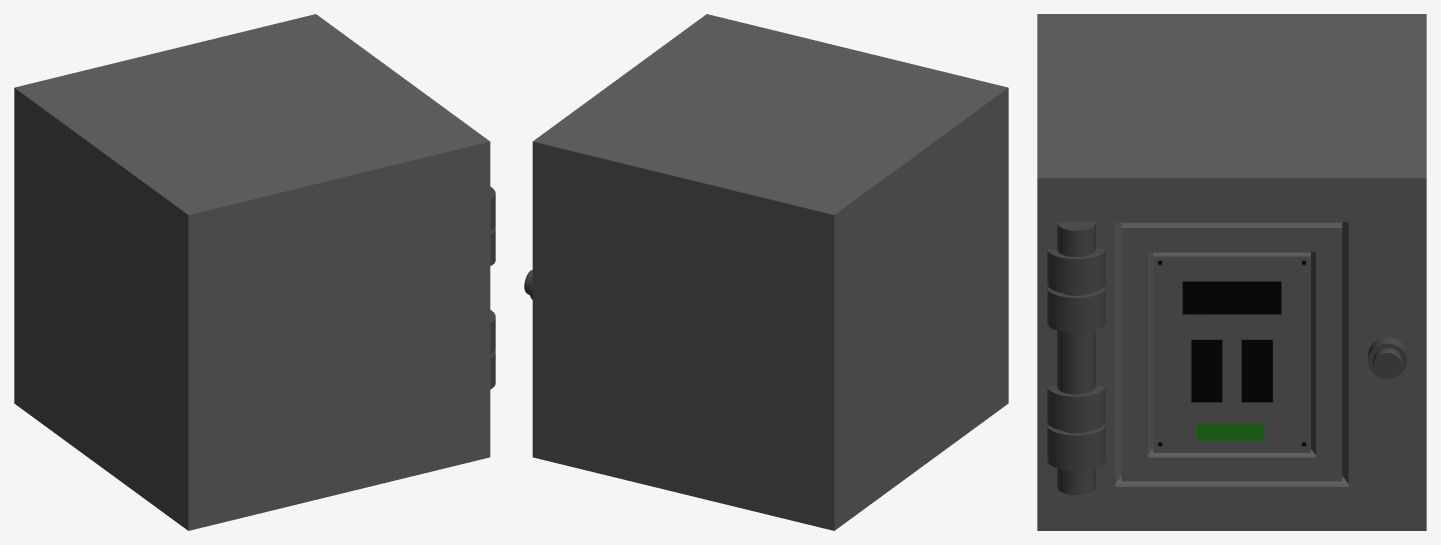
Rendered from Safe.glb.
3 renders of one model, left to right at view 1: azimuth 30°, elevation 25°; view 2: azimuth 150°, elevation 25°; view 3: azimuth 270°, elevation 25°, orthographic. The views are drawn at different scales.
Visible parts, largest first — view 1: Cube; view 2: Cube; view 3: Cube, Cylinder.002, Cylinder.005, Cylinder.003, Cylinder.004, Cylinder.006, Cylinder.001, Cylinder.
Part boxes in pixels (bbox=[...]): Cube: bbox=[14, 14, 490, 530]; Cube: bbox=[532, 14, 1008, 530]; Cube: bbox=[1037, 14, 1426, 530]; Cylinder.002: bbox=[1057, 222, 1095, 494]; Cylinder.005: bbox=[1047, 386, 1105, 431]; Cylinder.003: bbox=[1047, 249, 1105, 294]; Cylinder.004: bbox=[1047, 287, 1105, 333]; Cylinder.006: bbox=[1047, 425, 1105, 470]; Cylinder.001: bbox=[1373, 348, 1402, 377]; Cylinder: bbox=[1368, 337, 1406, 378].
Size of the model in its own units: 2.13 by 2 by 2.
Materials: 8 (8 with a texture image).
